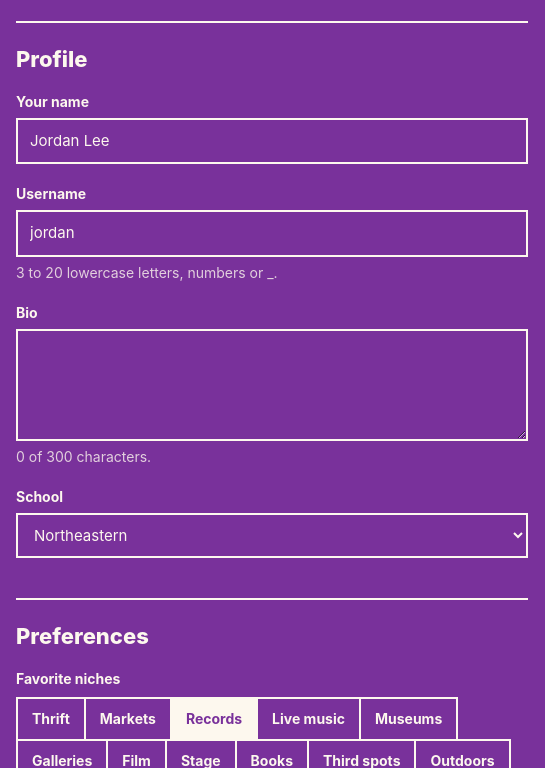
Test: Settings › saves your changes
The width and height of the screenshot is (545, 768).
(page scrolled)
Step 1. Type "  Record nerd. " into the text box labelled "Bio" → (272, 385), box [16,329,528,441]
(page scrolled)
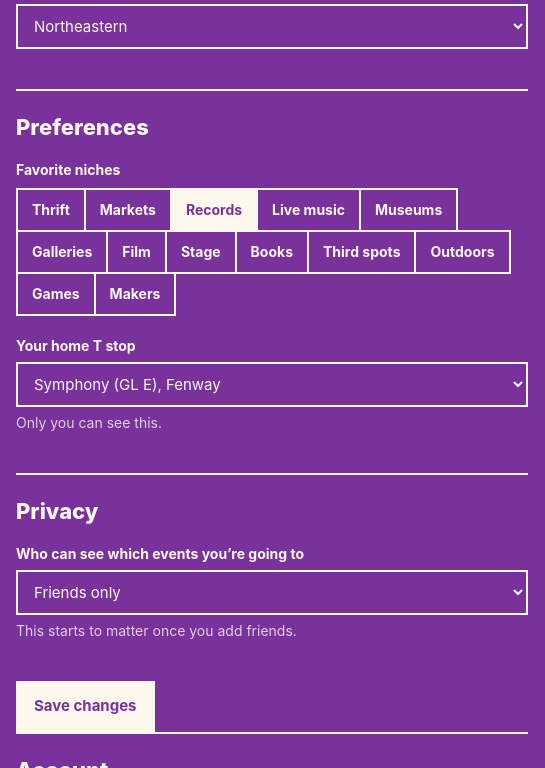
Step 2. Select "Chinatown (OL), Chinatown" in the dropdown labelled "Your home T stop" → (272, 385), box [16,362,528,407]
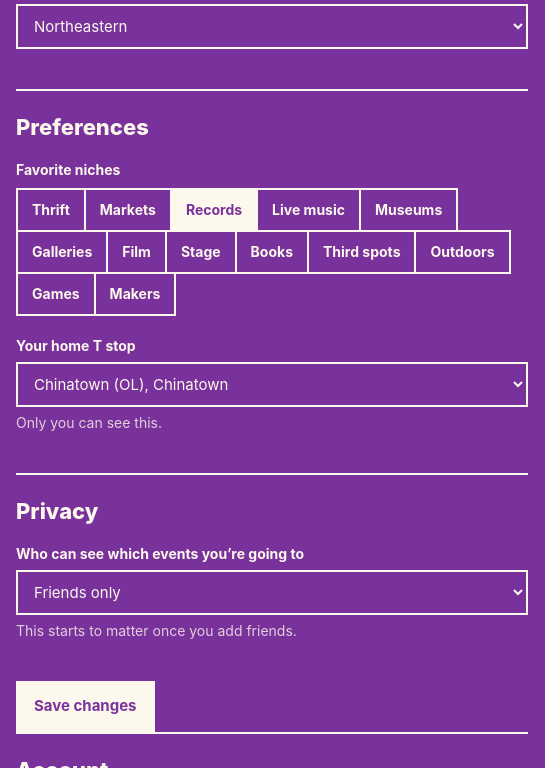
Step 3. Click the button "Save changes" → (85, 707), box [16,681,154,732]
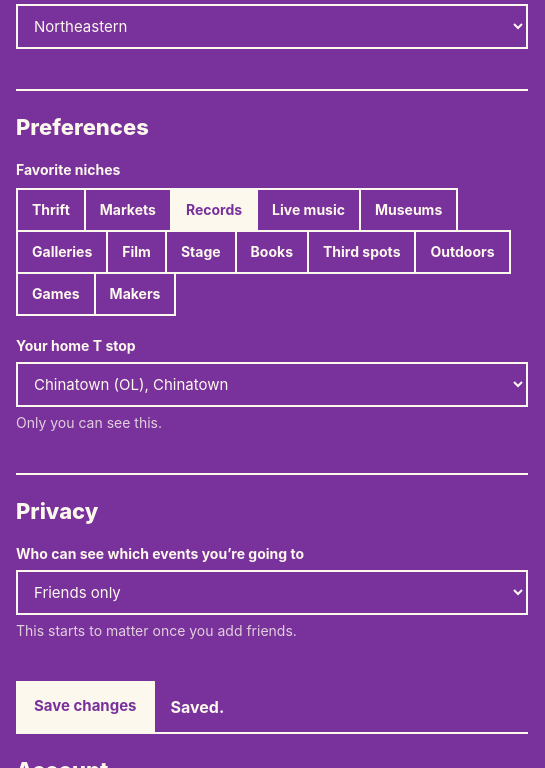
Check: the text "Saved." is shown, box [170,695,224,719]
